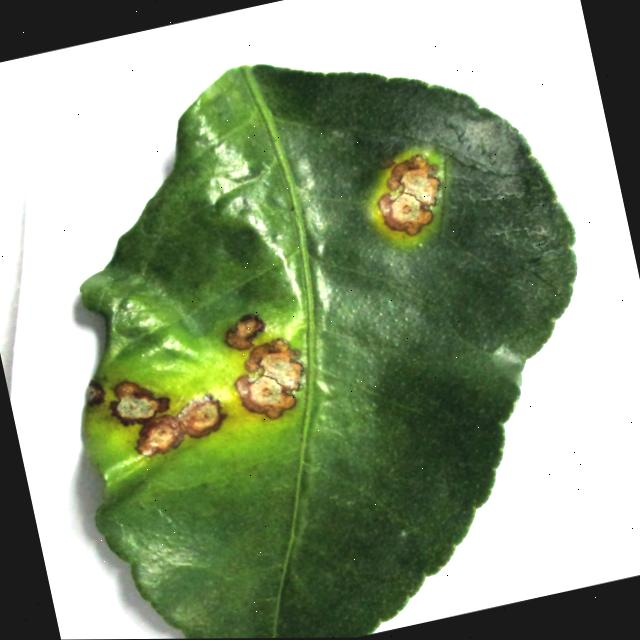antracnose: (80, 63, 574, 639), (235, 337, 302, 418), (376, 153, 439, 234), (109, 379, 169, 425), (177, 393, 225, 436), (135, 413, 183, 454), (224, 313, 264, 349)
